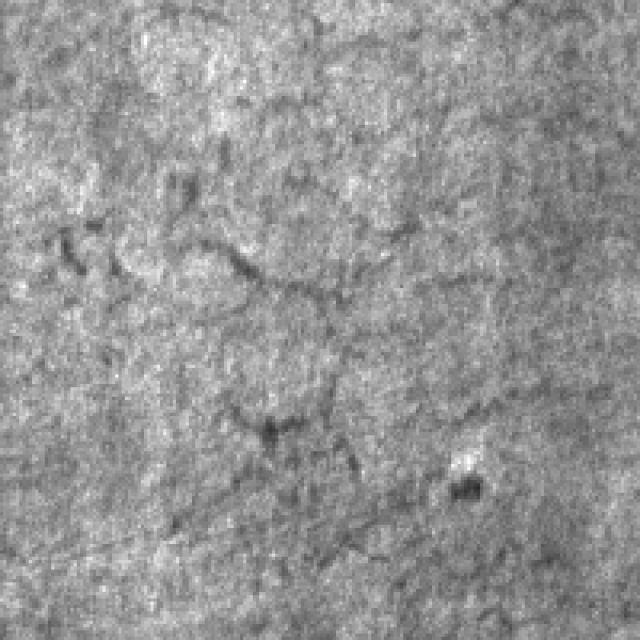crazing: (39, 70, 502, 336), (157, 371, 566, 608)
